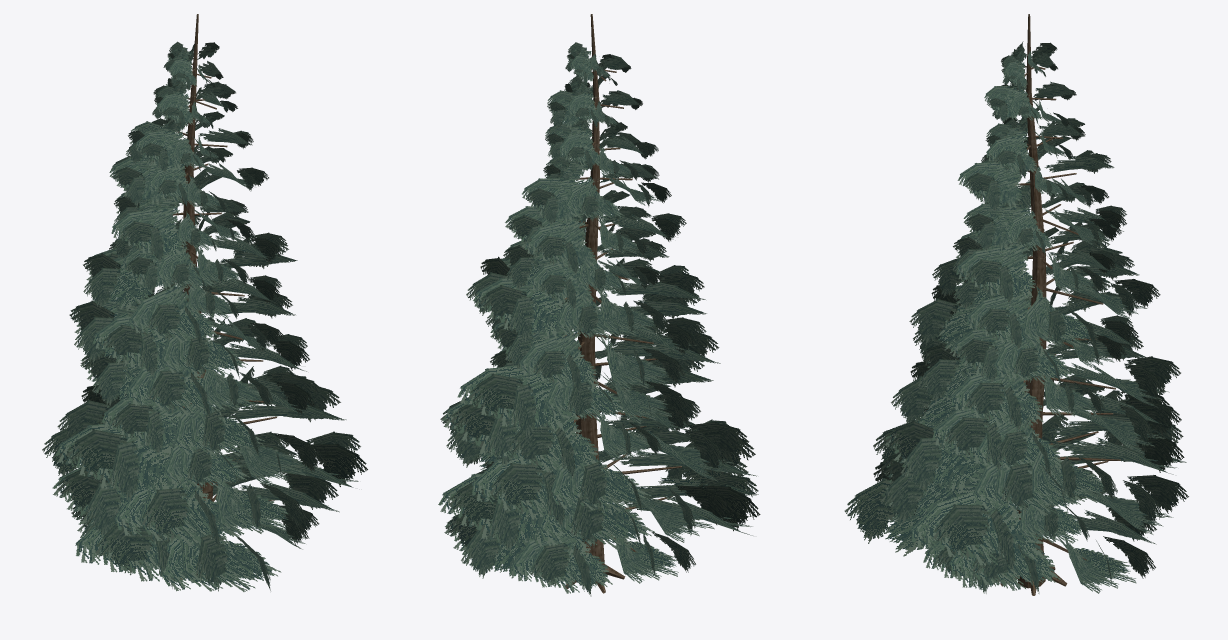
File: spruce_rework.gltf
The picture shows the model from 3 angles, left to right: view 1: azimuth 30°, elevation 25°; view 2: azimuth 150°, elevation 25°; view 3: azimuth 270°, elevation 25°; orthographic projection. The views are drawn at different scales.
Visible parts, largest first — view 1: spruce_rework; view 2: spruce_rework; view 3: spruce_rework.
Boxes of the visible parts, x1,y1,x2,y2 form: spruce_rework: [42, 14, 367, 591]; spruce_rework: [438, 14, 760, 596]; spruce_rework: [844, 14, 1188, 595].
Size of the model in its own units: 5.53 by 8.76 by 5.54.
2 materials, 2 textured.
